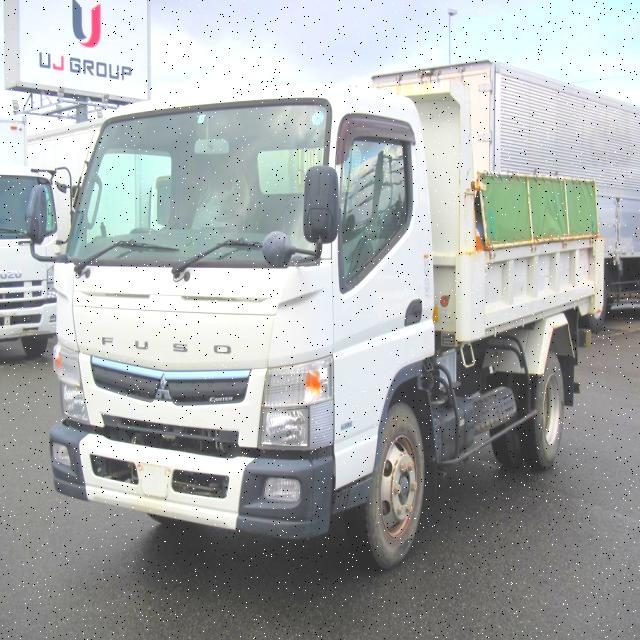truck: (27, 71, 604, 574)
